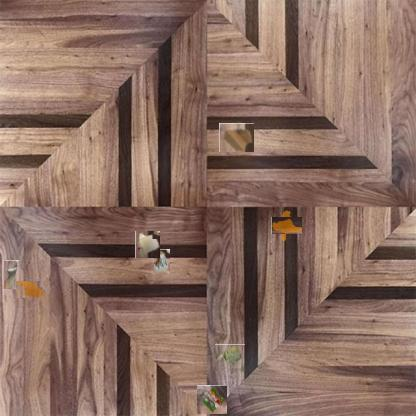dirty: (221, 122, 252, 153), (198, 385, 227, 415), (135, 231, 161, 258), (215, 344, 245, 365), (3, 260, 19, 289), (154, 249, 170, 274)
liquid: (275, 213, 299, 238), (16, 280, 46, 298)
